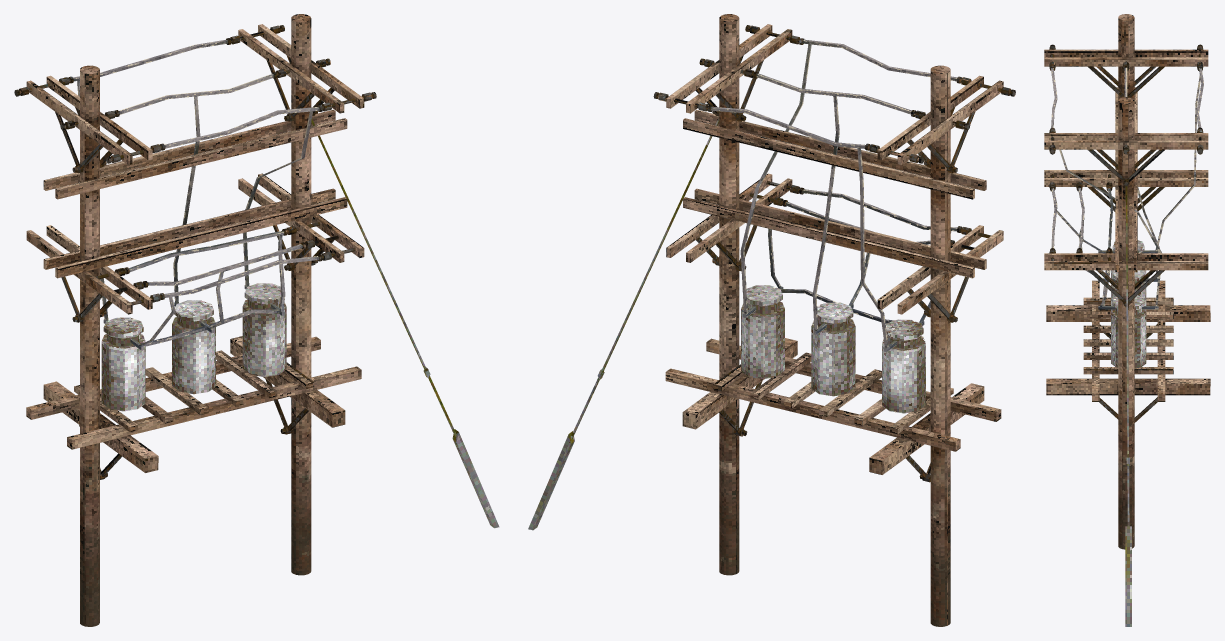
The model's file is E_Pole_Main.glb.
The picture shows the model from 3 angles, left to right: view 1: azimuth 30°, elevation 25°; view 2: azimuth 150°, elevation 25°; view 3: azimuth 270°, elevation 25°; orthographic projection. The views are drawn at different scales.
Visible parts, largest first — view 1: E_Pole_Main; view 2: E_Pole_Main; view 3: E_Pole_Main.
Boxes of the visible parts, x1,y1,x2,y2 form: E_Pole_Main: [14, 14, 499, 626]; E_Pole_Main: [528, 14, 1015, 626]; E_Pole_Main: [1044, 14, 1210, 626].
Size of the model in its own units: 5.09 by 6.04 by 2.03.
2 materials, 2 textured.
